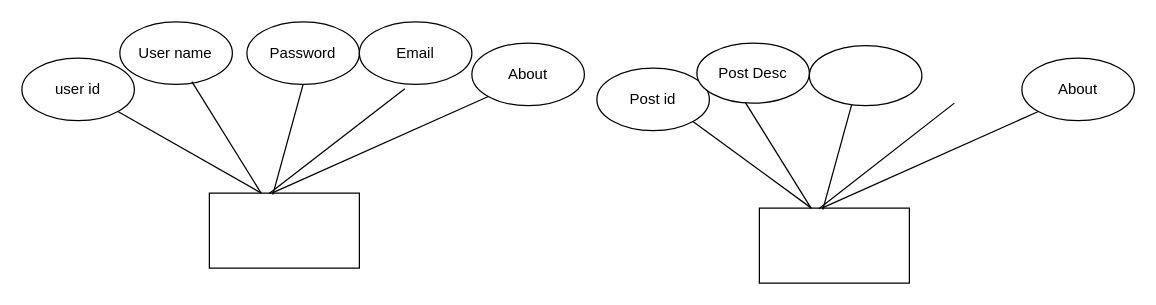
This 1156x305 diagram has some shape labels left out. Each missing label, with the centre of its shape:
"Post" goes at (833,245).
"User" goes at (283,230).
